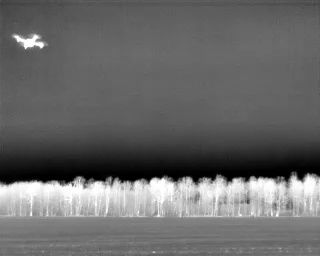DRONE: (9, 28, 52, 55)
